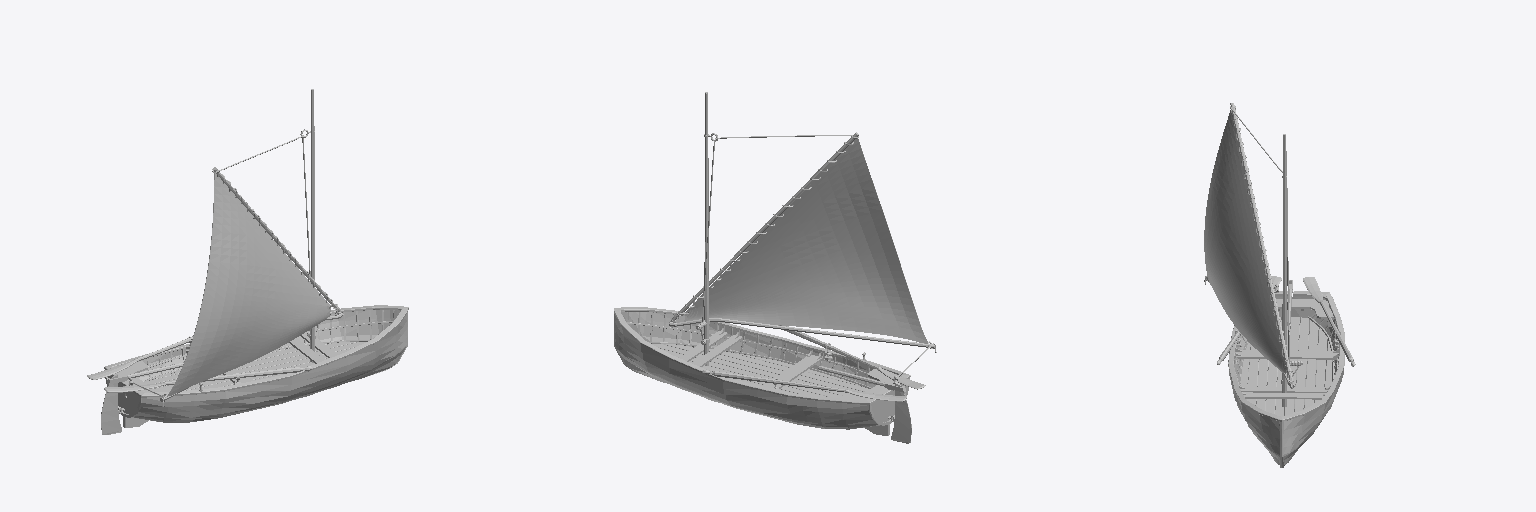
The model's file is Boat.obj.
The picture shows the model from 3 angles: view 1: azimuth 30°, elevation 25°; view 2: azimuth 150°, elevation 25°; view 3: azimuth 270°, elevation 25°; orthographic projection.
Visible parts, largest first — view 1: Boat; view 2: Boat; view 3: Boat.
Part boxes in pixels (x1,y1,x2,y2): Boat: (87, 89, 408, 434); Boat: (614, 92, 936, 443); Boat: (1204, 103, 1355, 467).
Bounding box in the file's own units: 32.28 × 30.22 × 13.79.